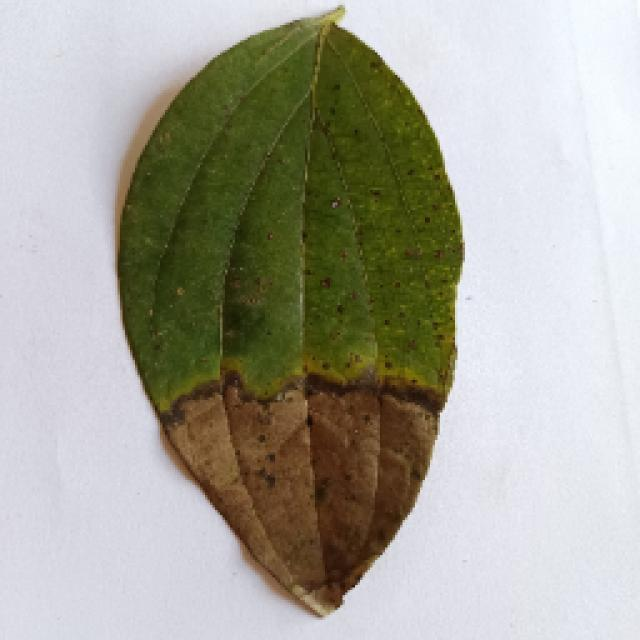footrot: (115, 13, 463, 615)
